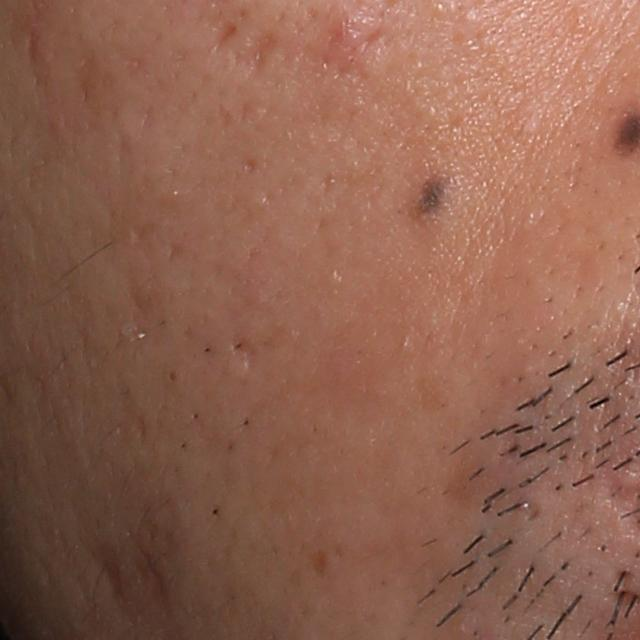atrophic_scar: (224, 30, 285, 84), (226, 334, 260, 372), (209, 19, 241, 57)
nevus: (403, 156, 462, 230)
